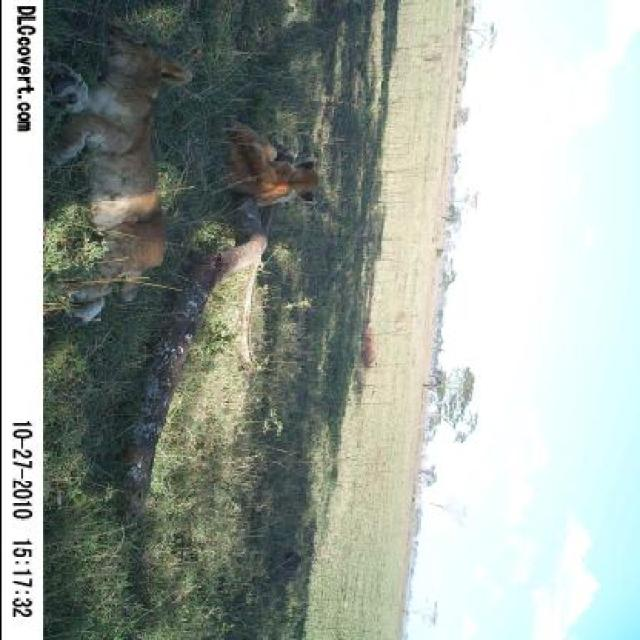Lion: (47, 17, 202, 328), (204, 110, 330, 222)
